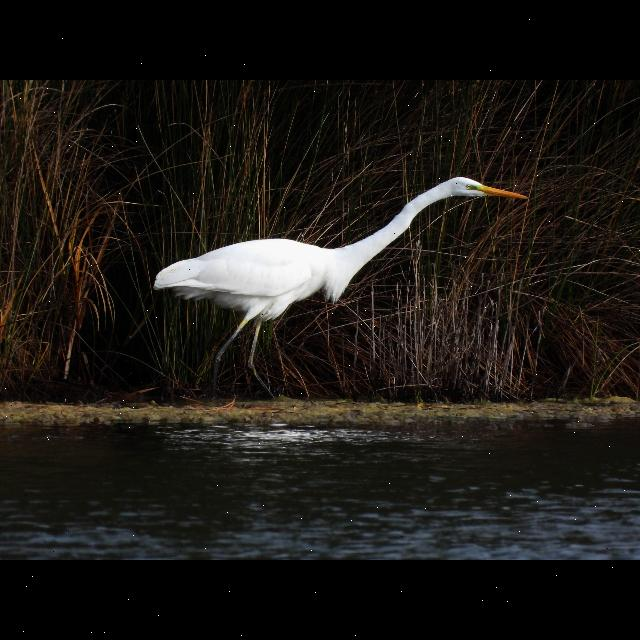egret: (147, 170, 533, 418)
